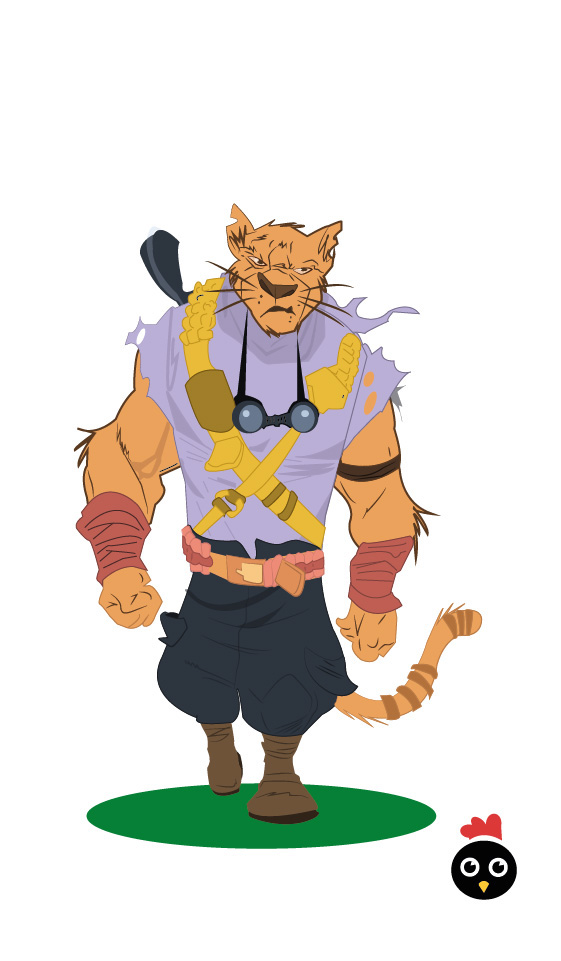cat: (21, 209, 501, 873)
